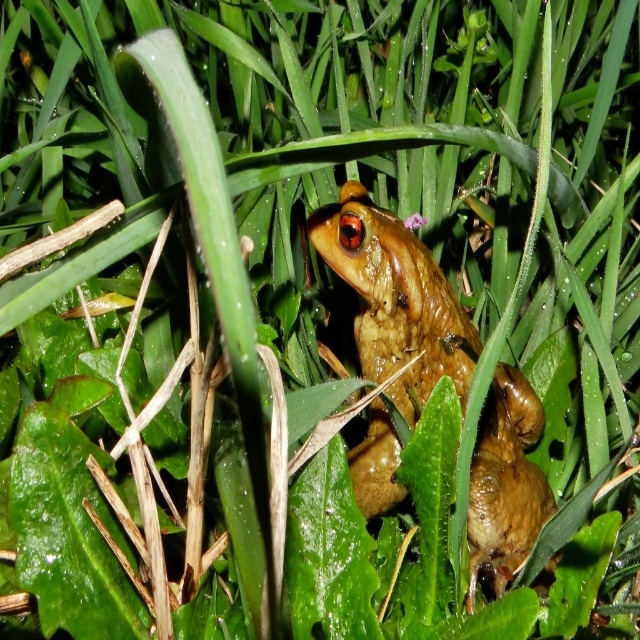Frog: (306, 180, 562, 615)
